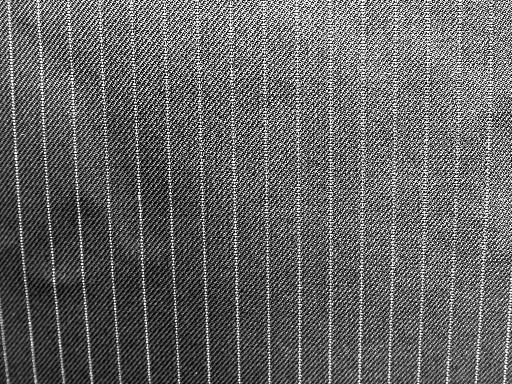fabric_perfect: (2, 3, 512, 382)
